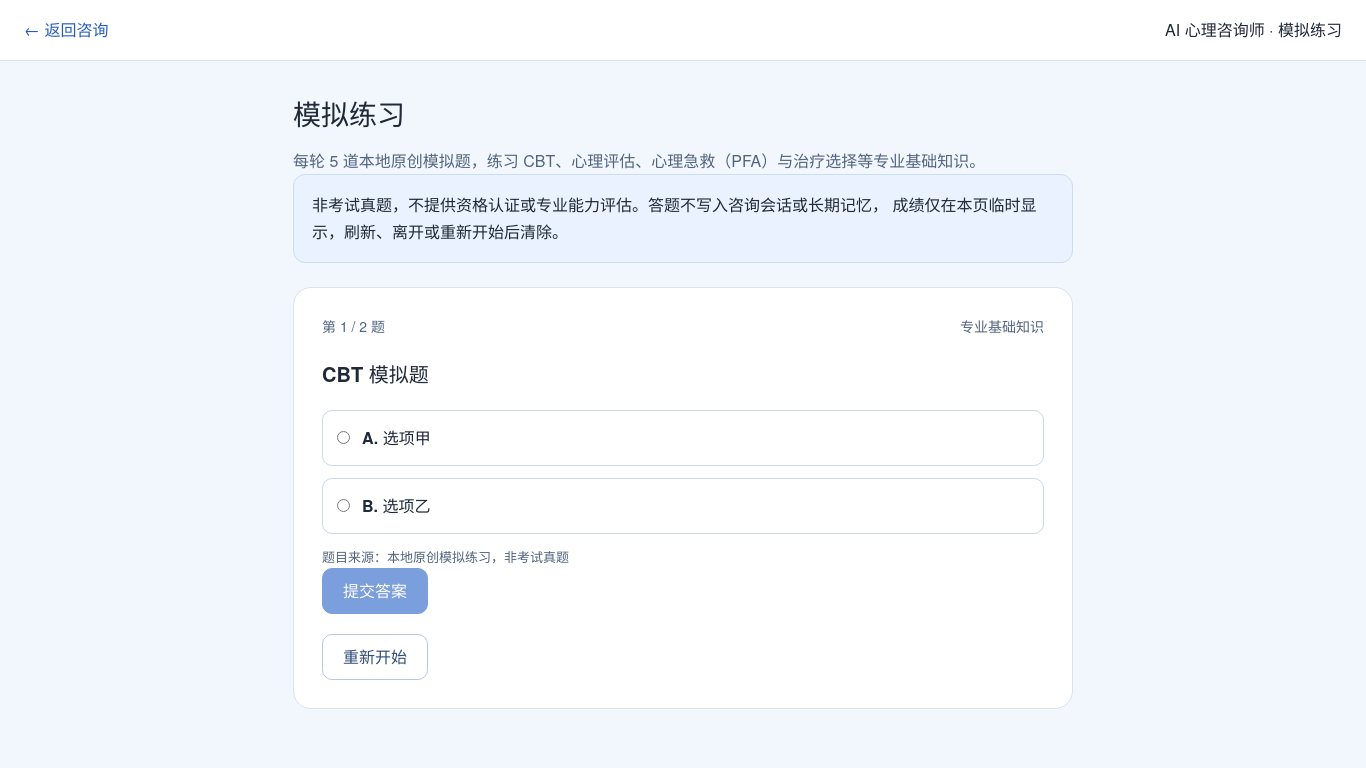
模拟练习页面 › 提交失败保留选项供重试，重试成功后才能进入下一题
The width and height of the screenshot is (1366, 768).
Click the radio button labelled "B. 选项乙": (344, 506) [337,499,350,512]
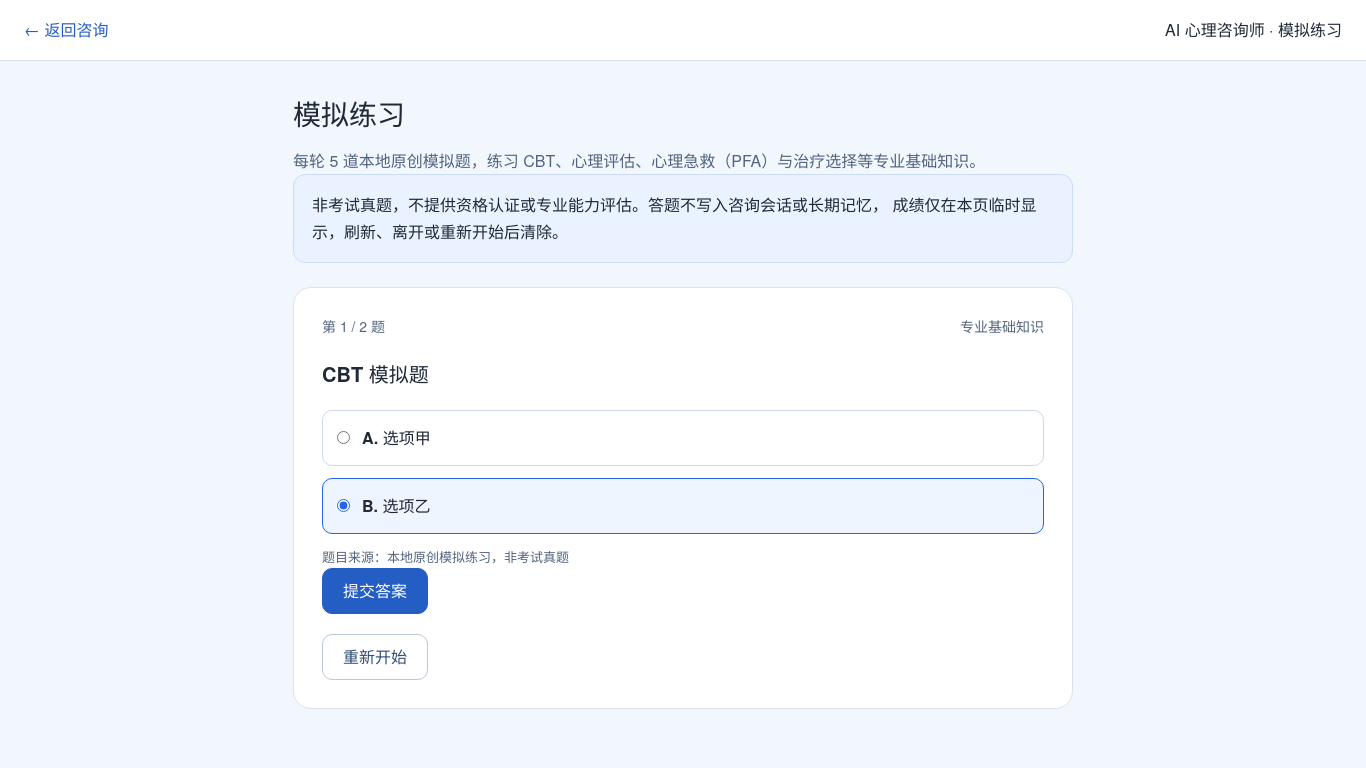
Submit the form, box [322,357,1044,614]
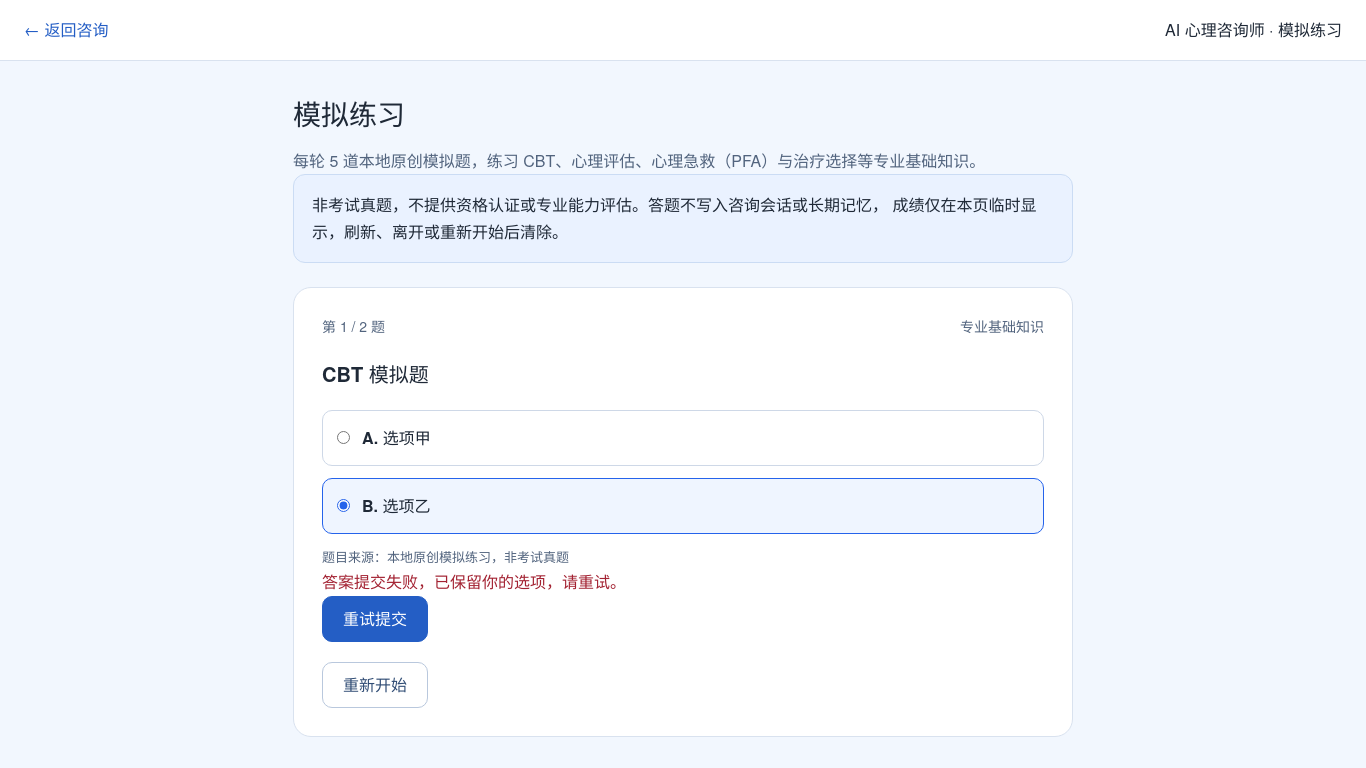
Result: the radio button labelled "B. 选项乙" is checked at [337,499,350,512]
Result: the message "答案提交失败，已保留你的选项，请重试。" is shown at [322,570,626,593]
Submit the form from the button "重试提交", box [322,596,428,642]
(page scrolled)
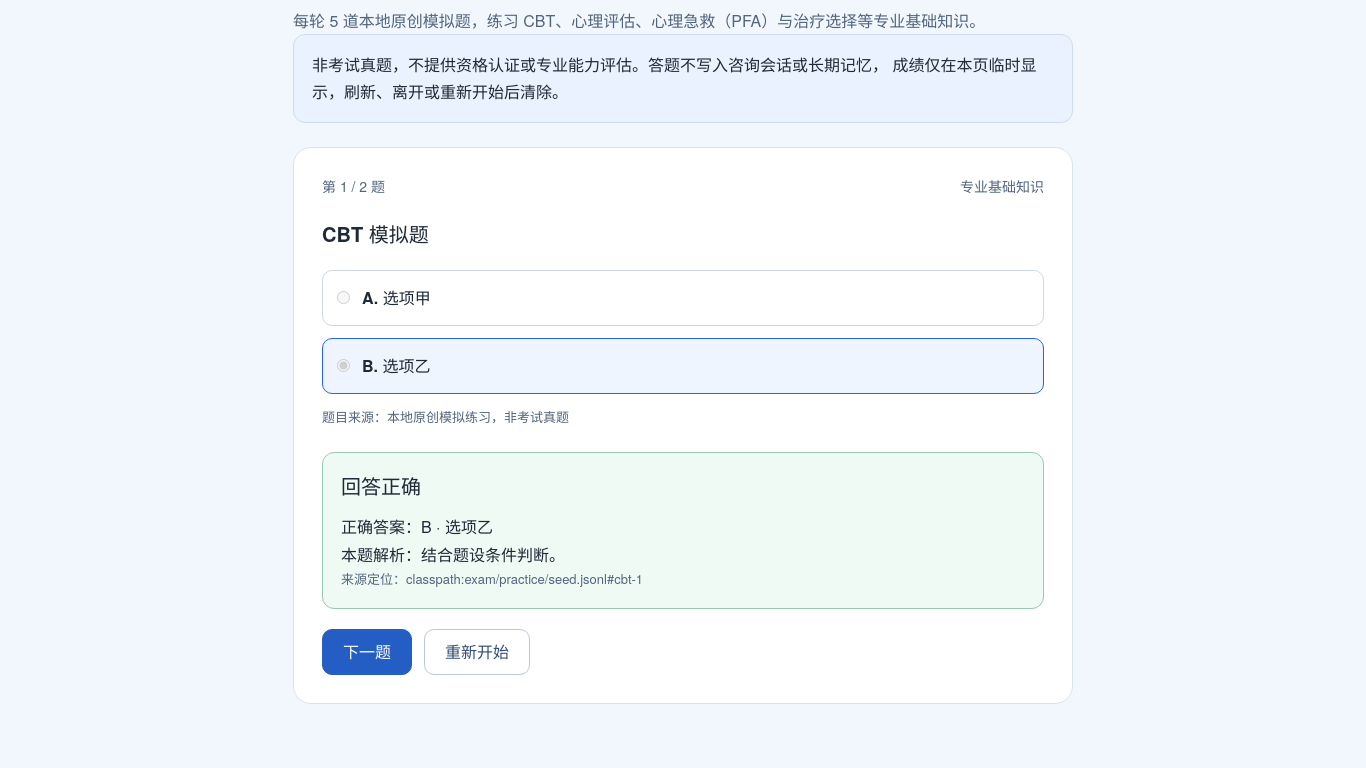
Result: the message with class "answer-result" shows "回答正确" at [341,471,421,500]
Result: the button "下一题" is shown at [322,629,412,675]
